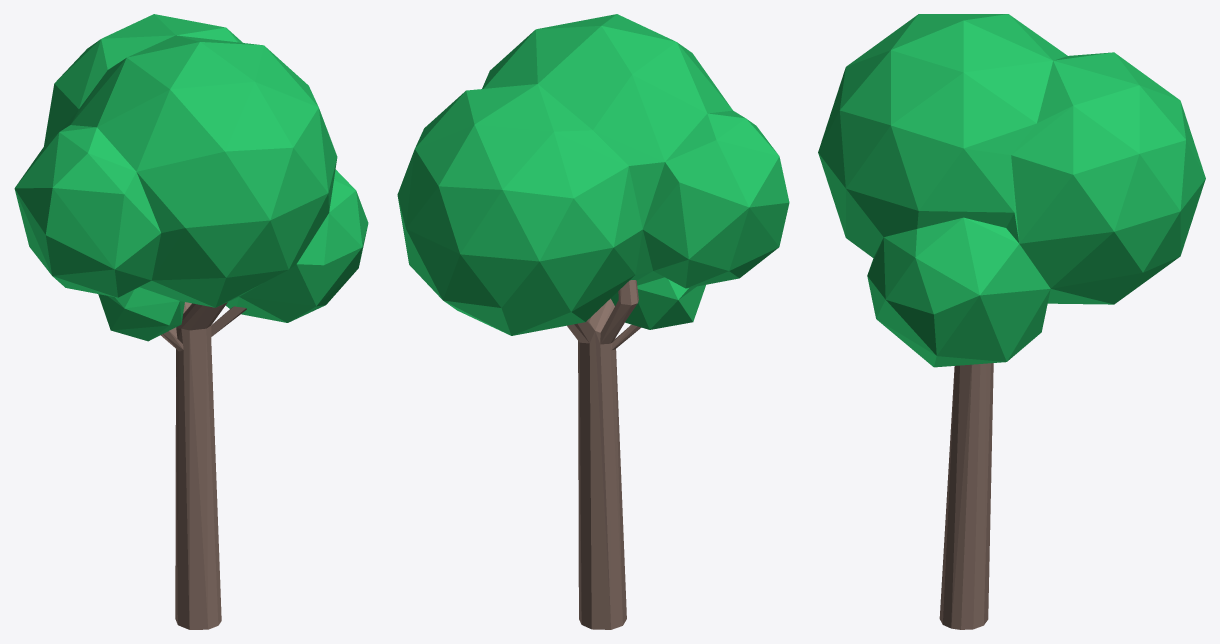
Rendered from tree2.fbx.
The picture shows the model from 3 angles, left to right: view 1: azimuth 30°, elevation 25°; view 2: azimuth 150°, elevation 25°; view 3: azimuth 270°, elevation 25°; orthographic projection. The views are drawn at different scales.
Parts seen in each view (by area): view 1: treetype2; view 2: treetype2; view 3: treetype2.
Part boxes in pixels (x1,y1,x2,y2): treetype2: [14, 14, 368, 629]; treetype2: [397, 14, 789, 629]; treetype2: [818, 14, 1205, 629].
Bounding box in the file's own units: 118 × 200 × 117.
